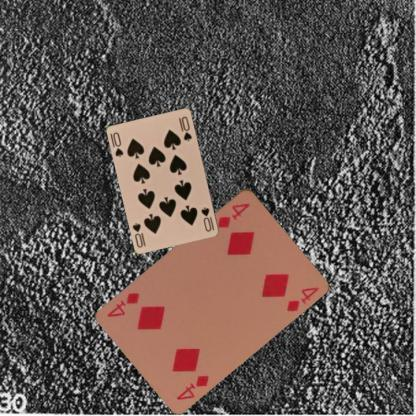10s: (198, 204, 216, 233), (110, 130, 125, 159)
4d: (215, 200, 252, 229), (174, 372, 210, 401)
